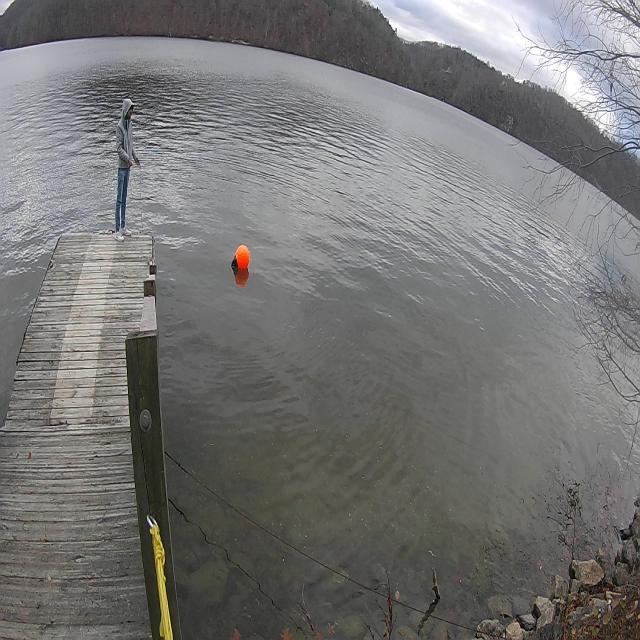Buoy: (229, 242, 252, 278)
